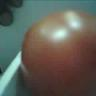tomato: (23, 17, 96, 96)
